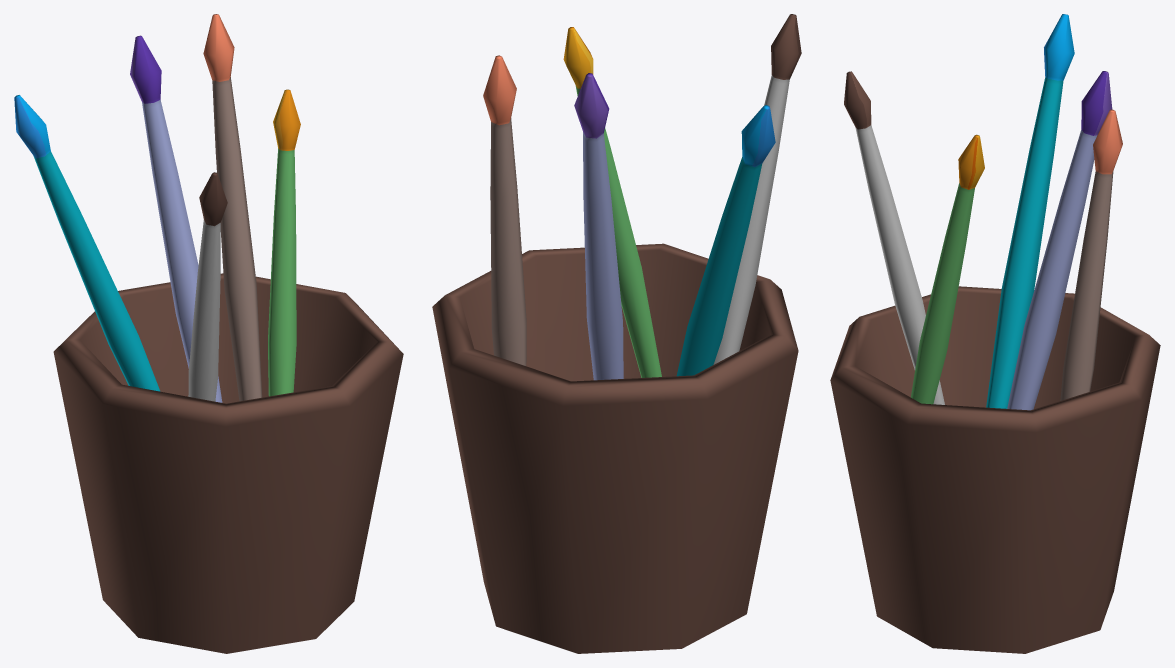
File: Color_Pencil_Set_Collider.fbx
3 renders of one model, left to right at view 1: azimuth 30°, elevation 25°; view 2: azimuth 150°, elevation 25°; view 3: azimuth 270°, elevation 25°, orthographic. The views are drawn at different scales.
Parts seen in each view (by area): view 1: Color_Pencil_Set_Collider; view 2: Color_Pencil_Set_Collider; view 3: Color_Pencil_Set_Collider.
Part boxes in pixels (bbox=[...]): Color_Pencil_Set_Collider: bbox=[14, 14, 403, 653]; Color_Pencil_Set_Collider: bbox=[432, 14, 801, 653]; Color_Pencil_Set_Collider: bbox=[830, 14, 1160, 653].
Size of the model in its own units: 18.53 by 28.96 by 16.78.
